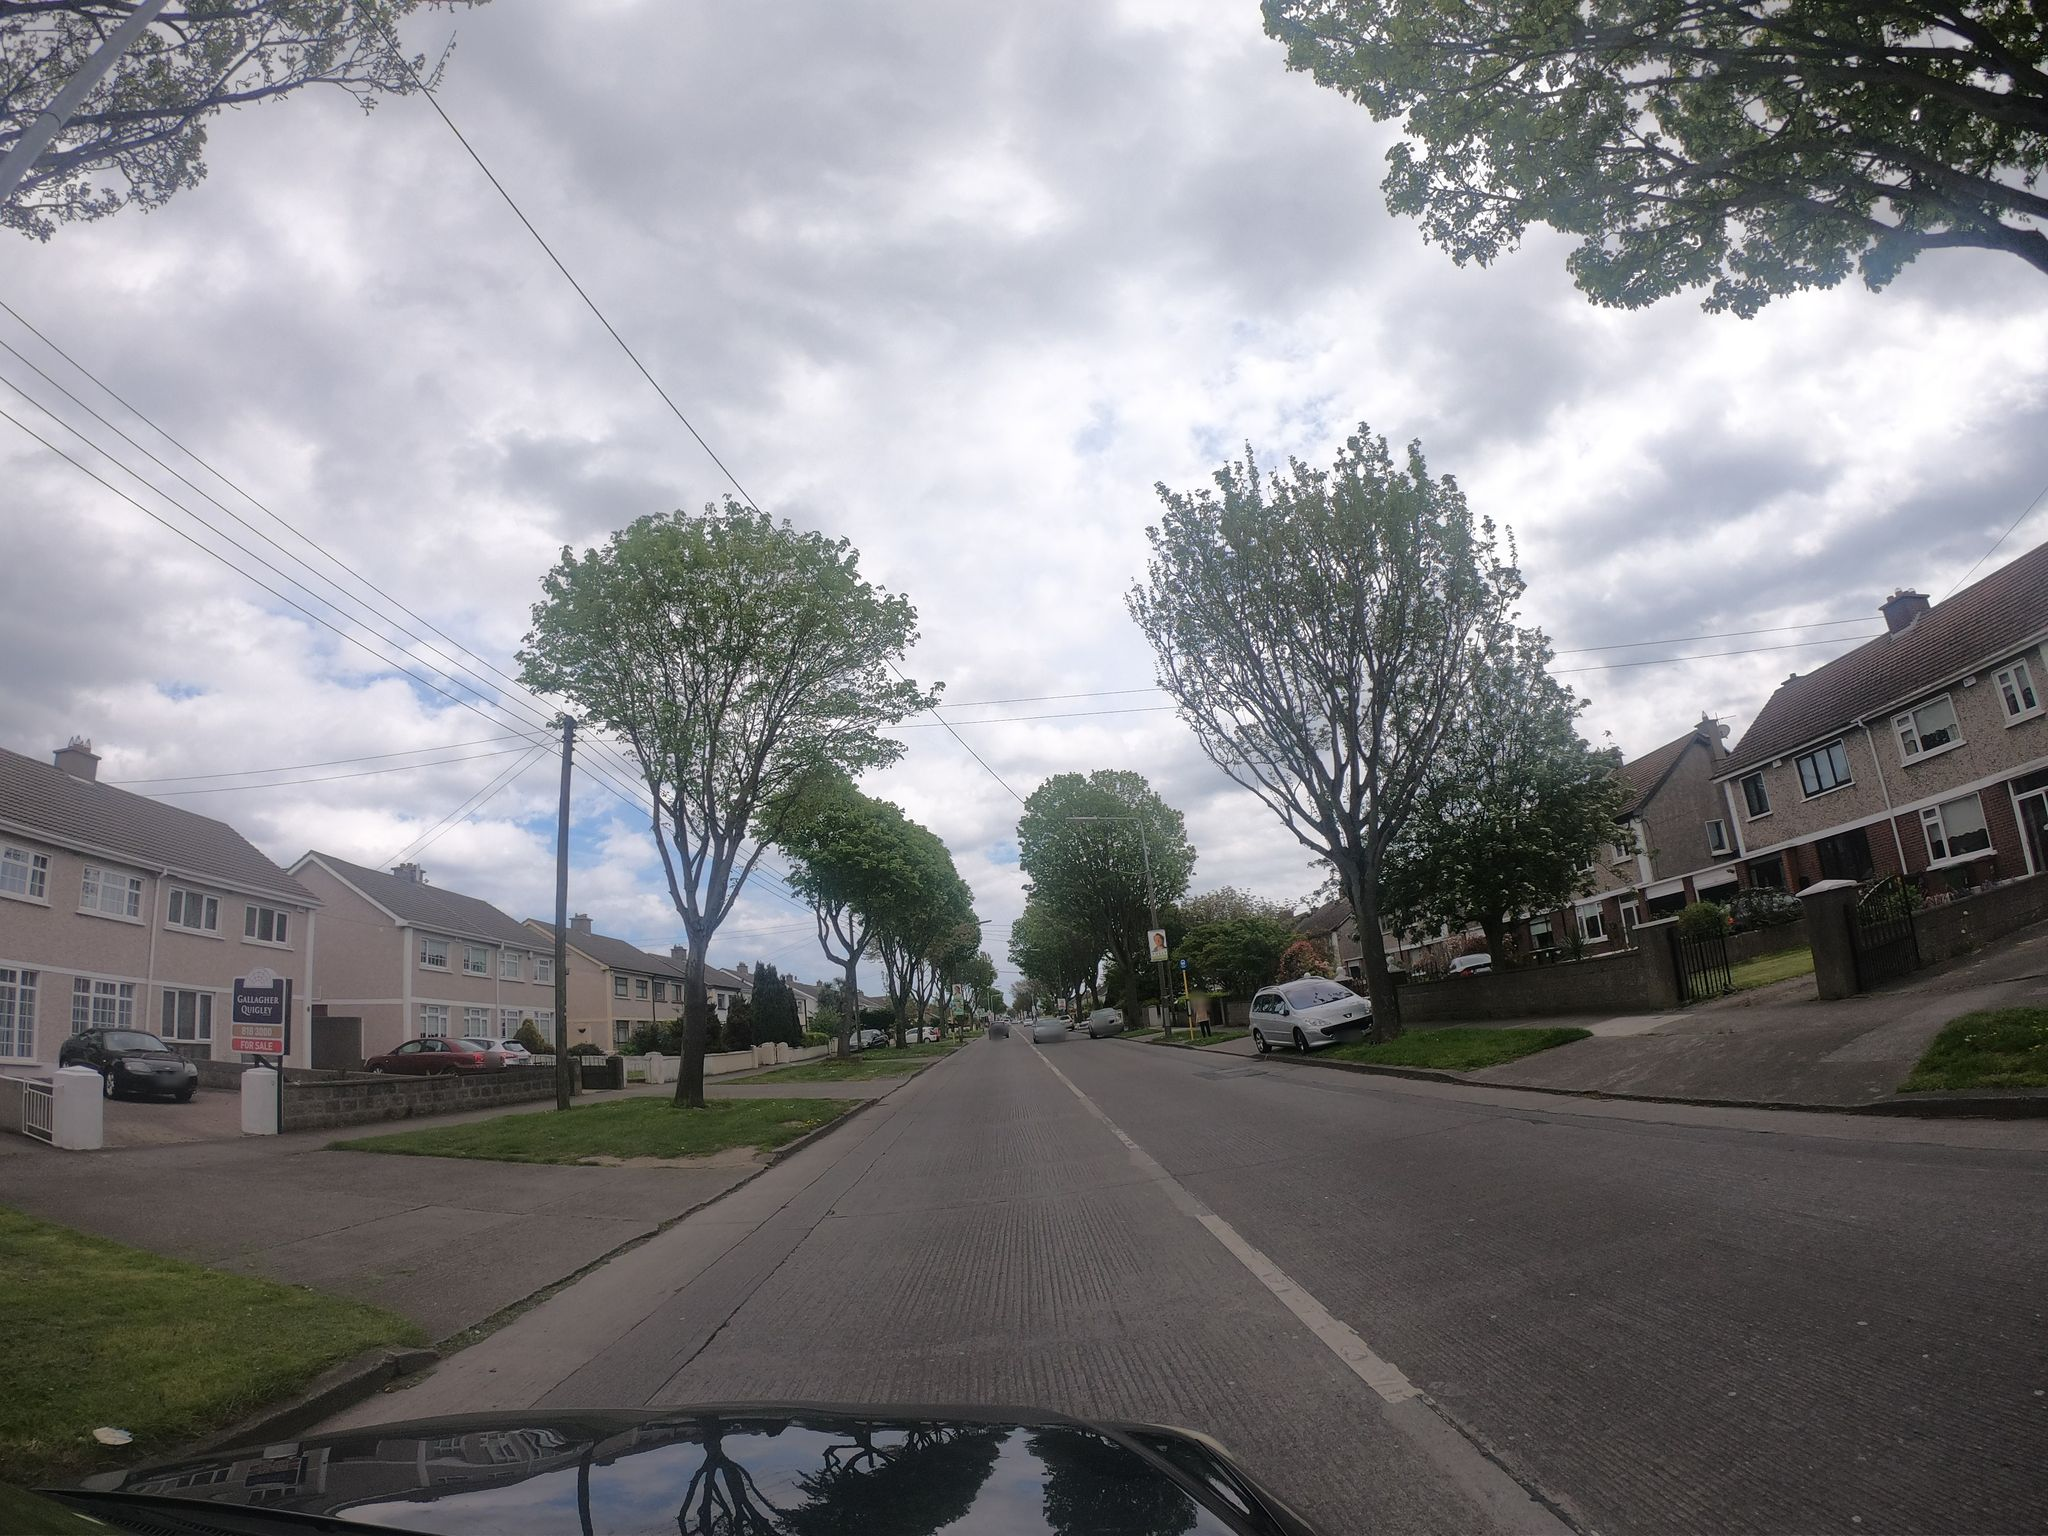property sign: (218, 954, 302, 1075)
